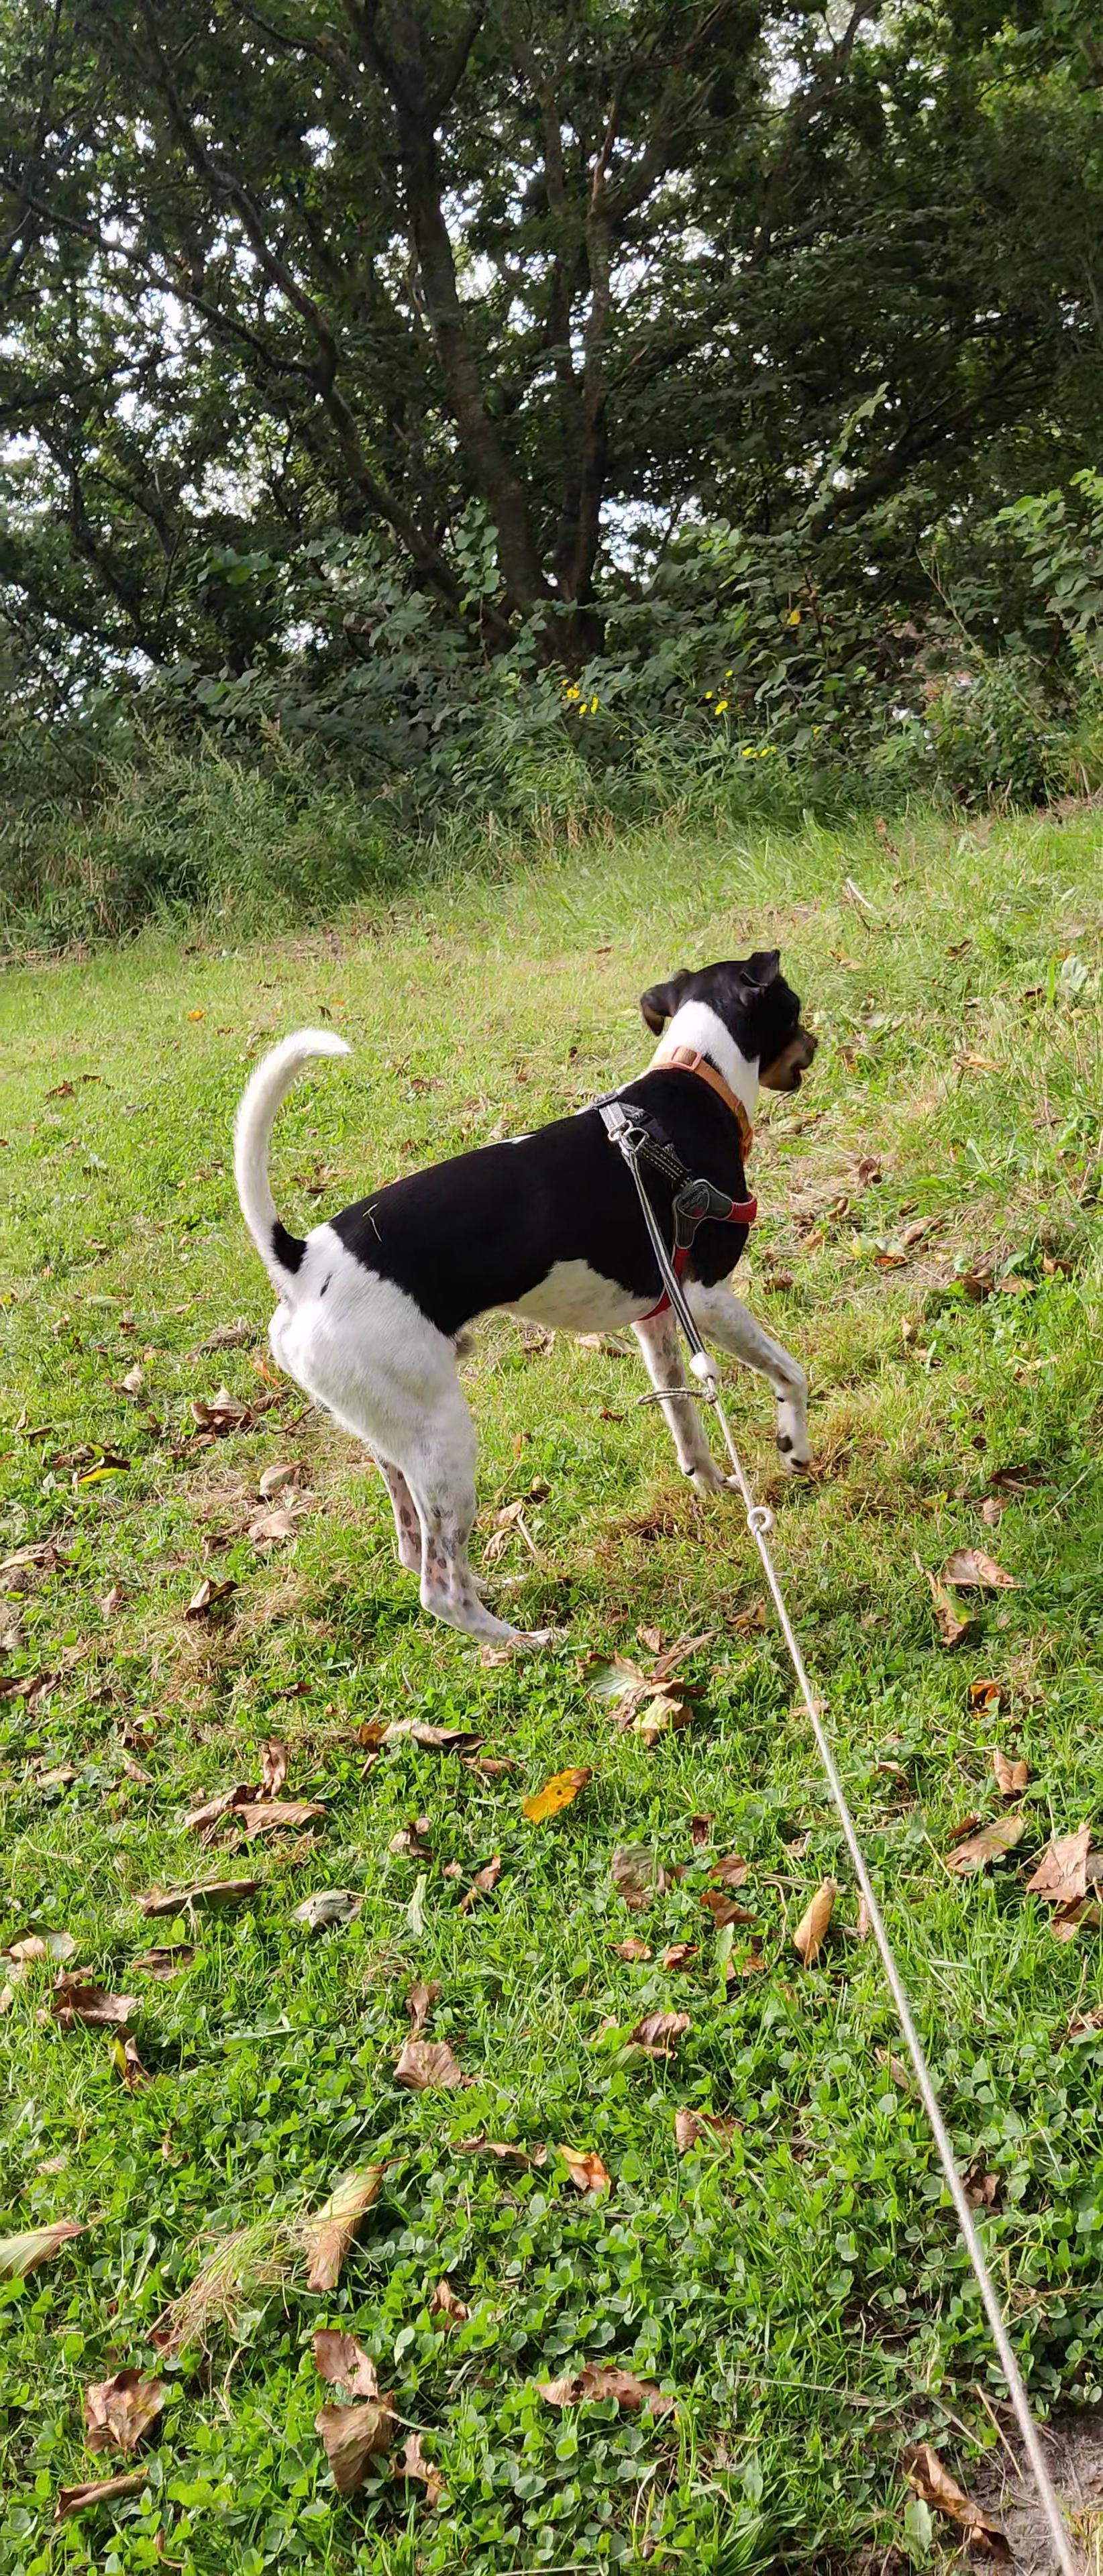Dog: (225, 948, 825, 1664)
